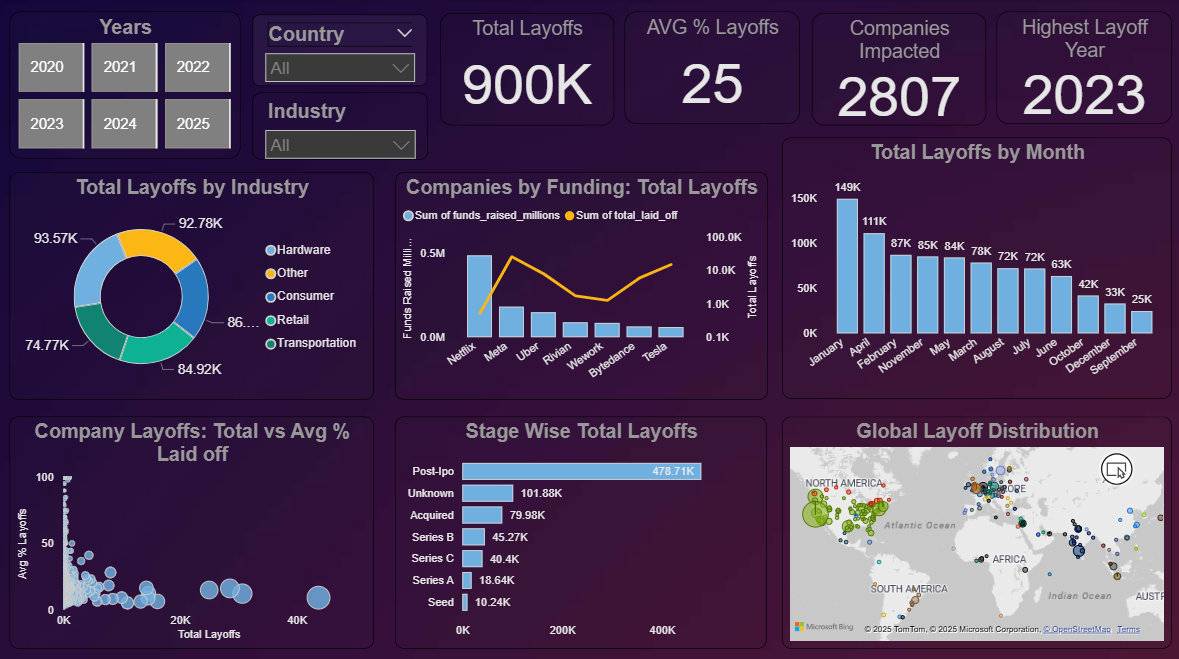

The page's visual inventory and layout, read from the dashboard file:
{"tool":"powerbi","page":{"name":"Page 1","canvas":[1280,720],"ordinal":0},"visuals":[{"type":"card","title":"Total Layoffs","fields":{"Values":["Sum(layoffs_cleaned.total_laid_off)"]},"box":[476.1,16.2,187.8,121.4],"z":0},{"type":"card","title":"AVG % Layoffs","fields":{"Values":["Avg(layoffs_cleaned.percentage_laid_off)"]},"box":[675.2,14.6,189.4,121.4],"z":1000},{"type":"card","title":"Companies Impacted","fields":{"Values":["Count(layoffs_cleaned.company)"]},"box":[877.6,16.2,187.8,121.4],"z":2000},{"type":"card","title":"Highest Layoff Year","fields":{"Values":["Median(layoffs_cleaned.year)"]},"box":[1076.8,14.6,189.4,121.4],"z":3000},{"type":"clusteredColumnChart","title":"Total Layoffs by Month","fields":{"Y":["Sum(layoffs_cleaned.total_laid_off)"],"Category":["layoffs_cleaned.month_name"]},"box":[845.2,150.6,421,281.7],"z":4000},{"type":"donutChart","title":"Total Layoffs by Industry","fields":{"Category":["layoffs_cleaned.industry"],"Y":["Sum(layoffs_cleaned.total_laid_off)"]},"box":[11.3,187.1,393.1,245.7],"z":5000},{"type":"scatterChart","title":"Company Layoffs: Total vs Avg % Laid off","fields":{"X":["Sum(layoffs_cleaned.total_laid_off)"],"Y":["Avg(layoffs_cleaned.percentage_laid_off)"],"Category":["layoffs_cleaned.company"],"Size":["Sum(layoffs_cleaned.total_laid_off)"]},"box":[11.3,451.8,393.5,251],"z":6000},{"type":"clusteredBarChart","title":"Stage Wise Total Layoffs","fields":{"Category":["layoffs_cleaned.stage"],"Y":["Sum(layoffs_cleaned.total_laid_off)"]},"box":[427.5,451.8,401.6,251],"z":7000},{"type":"lineClusteredColumnComboChart","title":"Companies by Funding: Total Layoffs","fields":{"Category":["layoffs_cleaned.company"],"Y":["Sum(layoffs_cleaned.funds_raised_millions)"],"Y2":["Sum(layoffs_cleaned.total_laid_off)"]},"box":[427.1,187.1,402.5,245.7],"z":8000},{"type":"map","title":"Global Layoff Distribution","fields":{"Size":["Sum(layoffs_cleaned.total_laid_off)"],"Category":["layoffs_cleaned.location","layoffs_cleaned.country"],"Series":["layoffs_cleaned.country"]},"box":[845.2,451.8,421,251],"z":9000},{"type":"advancedSlicerVisual","title":"Years","fields":{"Values":["layoffs_cleaned.year"]},"box":[11.3,15.1,249.5,158.7],"z":10000},{"type":"slicer","fields":{"Values":["layoffs_cleaned.country"]},"box":[274,17,189,77.5],"z":11000},{"type":"slicer","fields":{"Values":["layoffs_cleaned.industry"]},"box":[273.6,102,189.4,72.9],"z":12000}]}

Visuals, with their boxes in screenshot pixels (x1, y1, x2, y2), scaled from the page's 1280x720 canvas onto the 1179x659 screenshot:
"Total Layoffs" card: crop(439, 15, 612, 126)
"AVG % Layoffs" card: crop(622, 13, 796, 124)
"Companies Impacted" card: crop(808, 15, 981, 126)
"Highest Layoff Year" card: crop(992, 13, 1166, 124)
"Total Layoffs by Month" clusteredColumnChart: crop(779, 138, 1166, 396)
"Total Layoffs by Industry" donutChart: crop(10, 171, 372, 396)
"Company Layoffs: Total vs Avg % Laid off" scatterChart: crop(10, 414, 373, 643)
"Stage Wise Total Layoffs" clusteredBarChart: crop(394, 414, 764, 643)
"Companies by Funding: Total Layoffs" lineClusteredColumnComboChart: crop(393, 171, 764, 396)
"Global Layoff Distribution" map: crop(779, 414, 1166, 643)
"Years" advancedSlicerVisual: crop(10, 14, 240, 159)
slicer - layoffs_cleaned.country: crop(252, 16, 426, 86)
slicer - layoffs_cleaned.industry: crop(252, 93, 426, 160)
